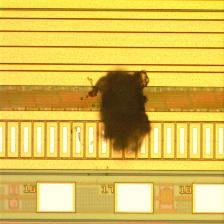PARTICLE: (73, 67, 156, 165)
